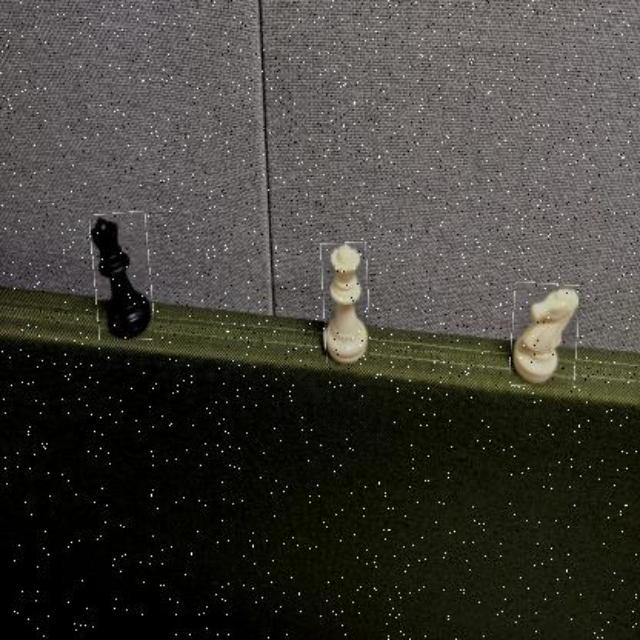black-queen: (92, 211, 153, 340)
white-knight: (511, 283, 578, 387)
white-queen: (321, 242, 368, 365)
